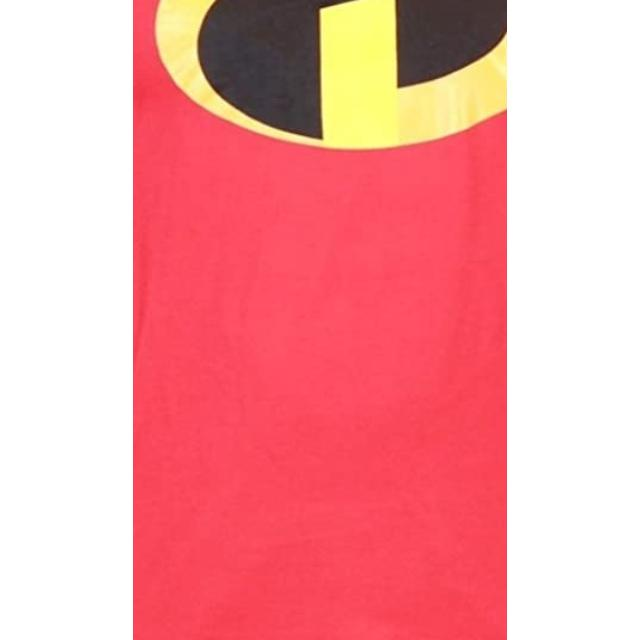polyester: (133, 0, 507, 640)
